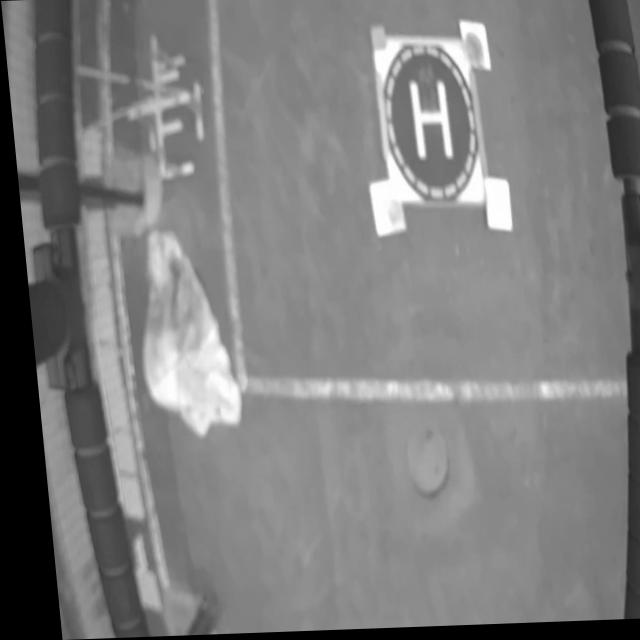Helipad: (407, 81, 449, 161)
